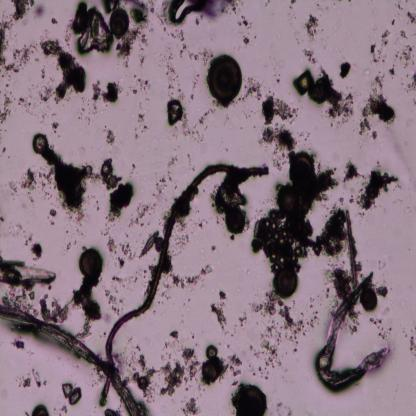Air bubble: (170, 0, 198, 24)
Background material: (252, 185, 320, 263), (246, 292, 307, 378), (320, 200, 363, 304), (41, 148, 99, 220), (294, 68, 355, 126), (132, 154, 181, 224), (40, 40, 87, 100), (212, 170, 252, 239), (354, 76, 396, 138), (124, 345, 163, 404), (72, 2, 113, 56), (101, 158, 134, 224), (161, 347, 201, 400), (0, 253, 57, 290), (71, 280, 104, 342), (356, 168, 399, 211), (261, 125, 300, 170), (168, 28, 215, 65), (165, 89, 190, 138), (0, 19, 21, 75), (161, 49, 182, 101), (2, 286, 38, 316), (18, 86, 54, 116), (262, 95, 297, 124), (115, 26, 141, 64), (209, 288, 229, 336), (106, 237, 136, 268), (170, 265, 212, 287), (37, 294, 67, 324), (202, 358, 231, 387), (369, 29, 391, 66), (171, 222, 193, 259), (91, 80, 122, 105), (200, 2, 242, 20), (62, 224, 90, 250), (16, 43, 42, 67), (61, 379, 83, 407), (316, 170, 341, 194), (0, 214, 23, 240), (242, 78, 264, 102), (342, 161, 366, 183), (26, 232, 44, 261), (395, 43, 416, 67), (126, 74, 151, 94), (229, 353, 242, 391), (307, 294, 321, 327), (20, 168, 38, 192), (194, 114, 210, 140), (137, 106, 148, 143), (305, 15, 320, 42), (106, 290, 122, 315), (132, 3, 149, 26), (137, 34, 149, 66), (183, 396, 202, 416), (4, 176, 22, 197), (12, 2, 34, 19), (99, 376, 111, 407), (0, 95, 13, 122), (103, 123, 118, 145), (32, 134, 49, 153), (237, 16, 254, 32), (47, 206, 62, 224), (305, 46, 318, 65), (404, 74, 416, 92), (18, 374, 32, 388), (32, 368, 42, 387), (339, 62, 350, 79), (50, 120, 61, 137), (410, 325, 416, 356), (33, 6, 46, 20), (13, 337, 25, 352), (238, 313, 248, 330), (406, 9, 416, 25), (169, 329, 179, 343), (388, 64, 398, 78), (401, 30, 411, 42), (286, 1, 296, 10), (51, 16, 59, 24), (242, 38, 249, 46), (390, 18, 396, 27), (211, 243, 216, 253), (0, 146, 6, 153)
Cellulose filter fibre: (0, 306, 144, 415), (313, 273, 389, 393)
Diatom: (210, 56, 242, 104), (287, 152, 314, 186), (238, 385, 267, 415), (273, 266, 299, 298), (79, 246, 103, 280), (109, 9, 130, 37), (359, 289, 379, 311), (140, 232, 158, 256), (205, 342, 219, 358), (33, 404, 51, 416)
